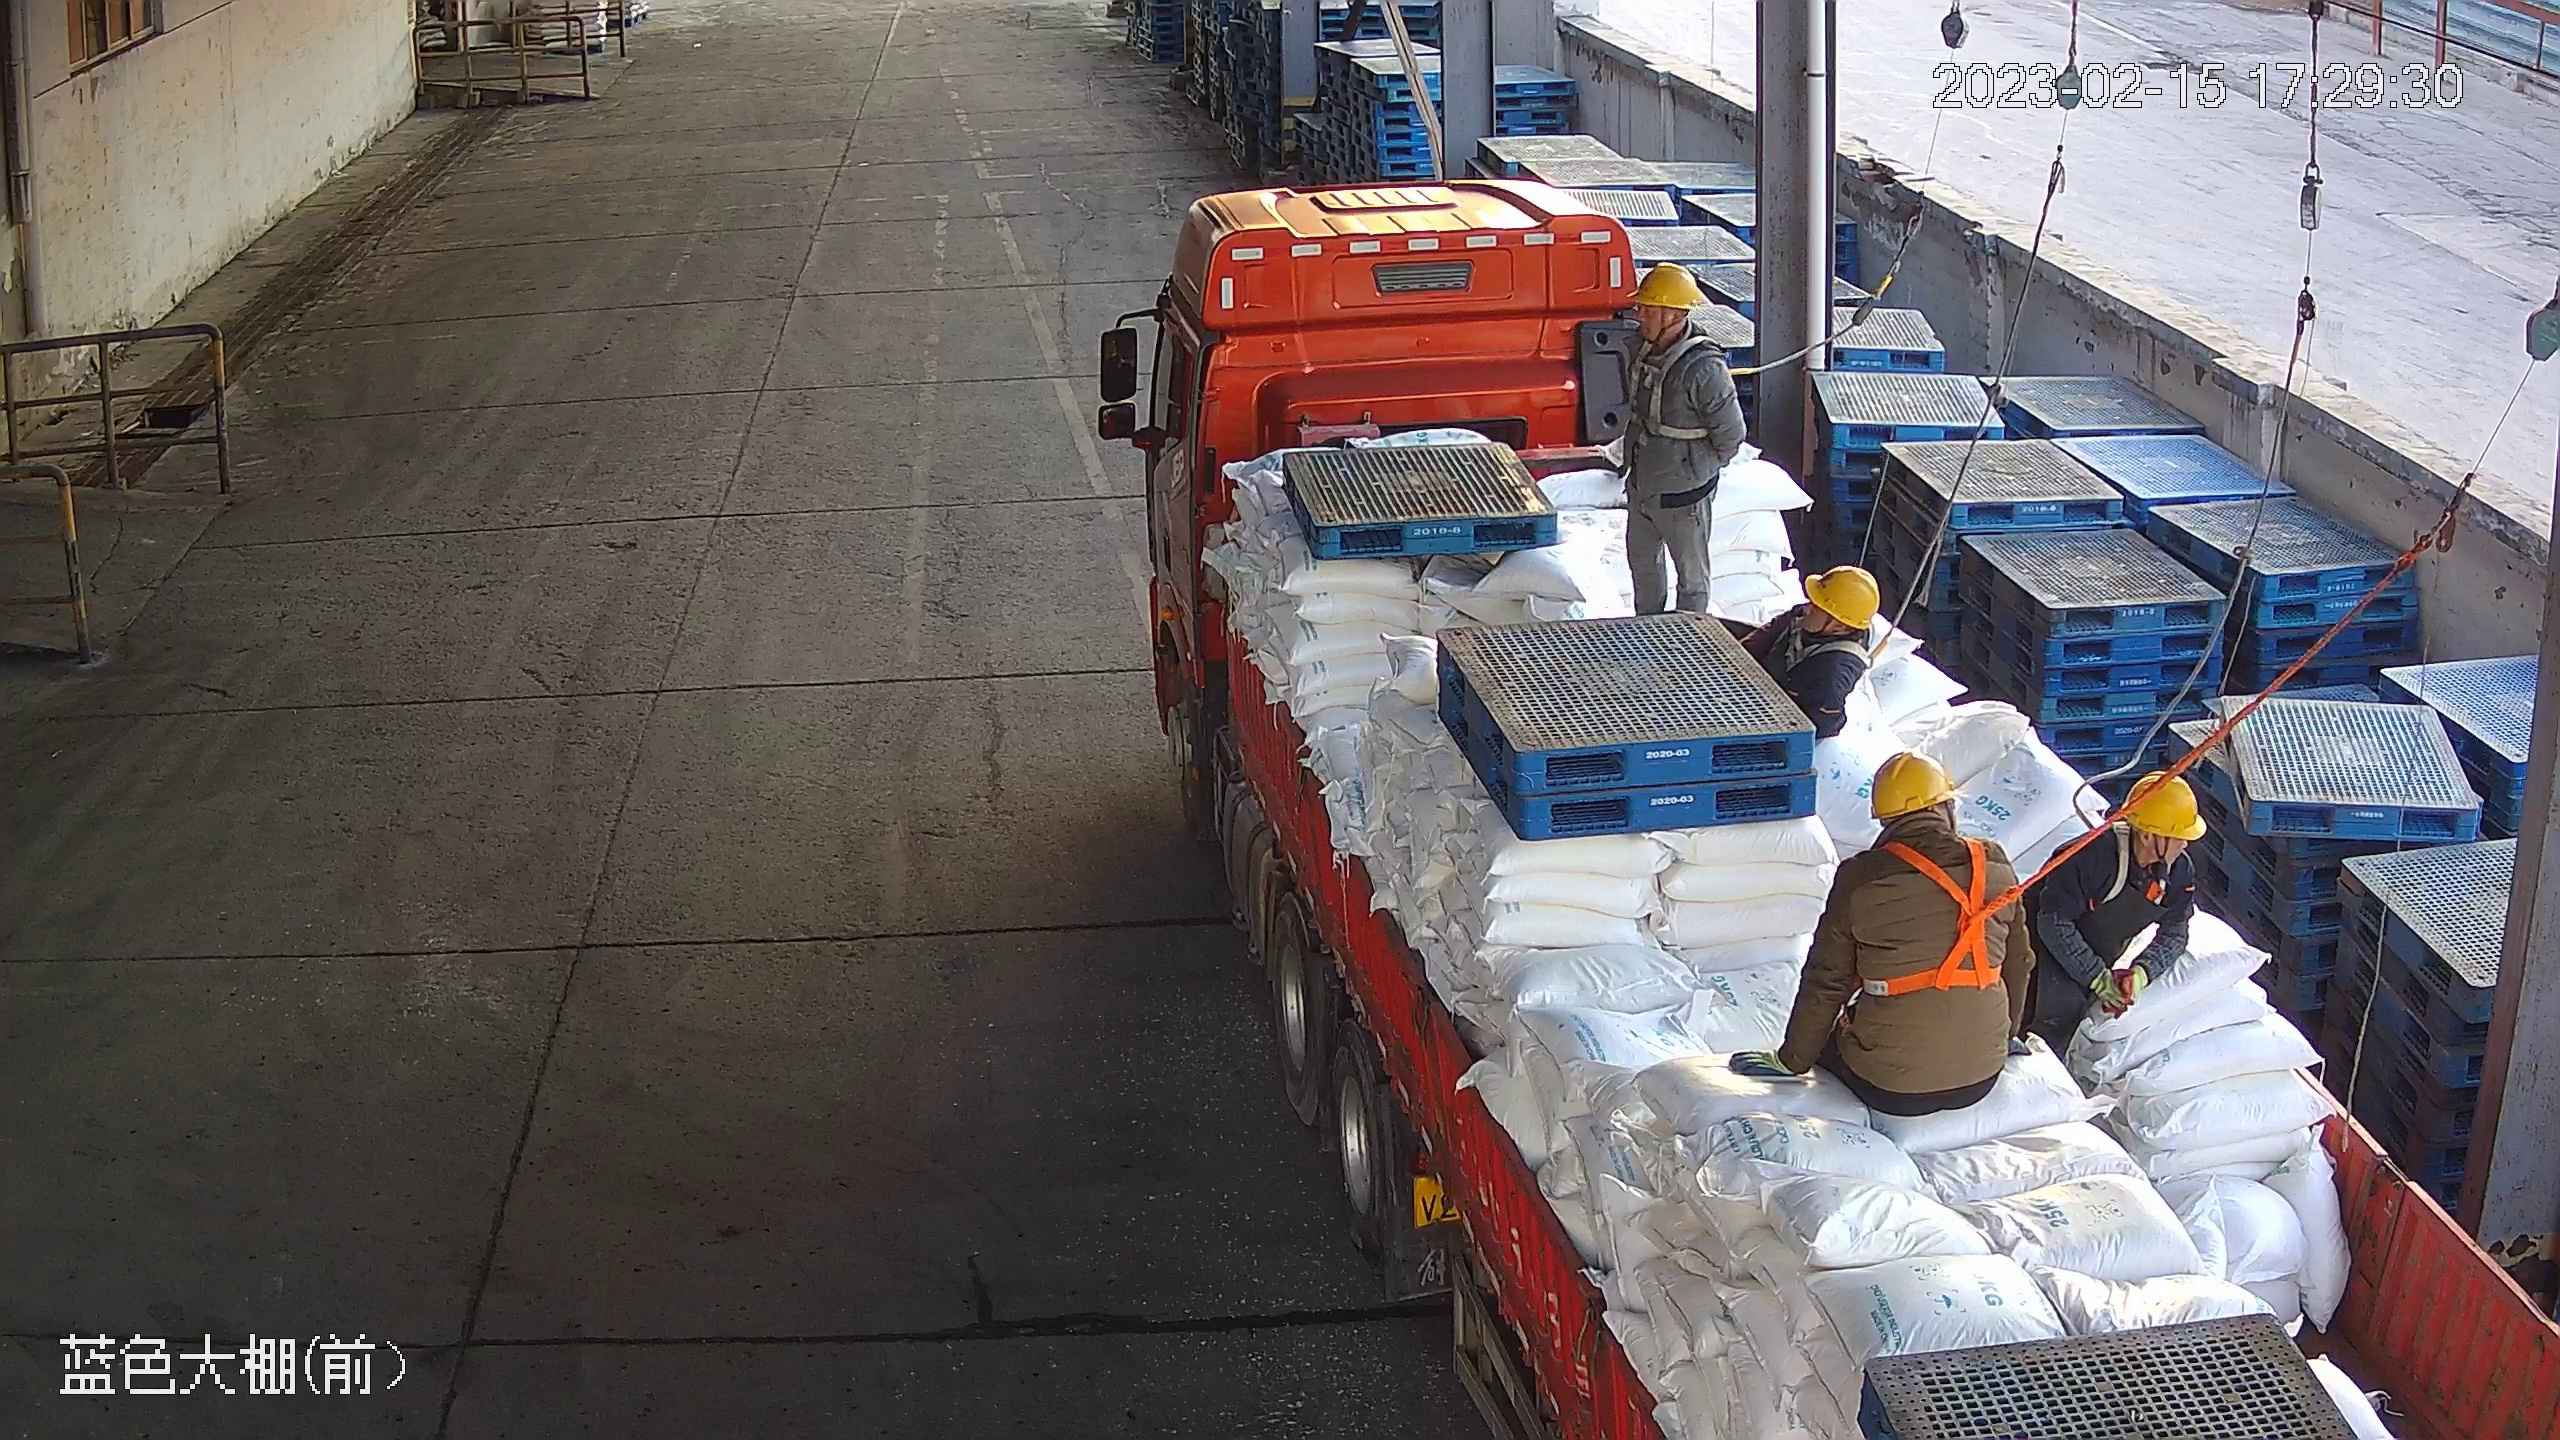belt: (1858, 843, 2028, 997), (1630, 341, 1720, 444), (2100, 825, 2176, 909), (1786, 627, 1864, 676)
head: (1844, 755, 2011, 888), (2074, 776, 2204, 878), (1783, 569, 1883, 685), (1628, 269, 1727, 383)
helmet: (1802, 558, 1883, 629), (2127, 774, 2202, 844), (1867, 755, 1958, 808), (1627, 265, 1704, 311)
people: (1734, 751, 2037, 1122), (2018, 778, 2204, 1044), (1618, 262, 1744, 609)
truck: (1099, 179, 2560, 1440)
